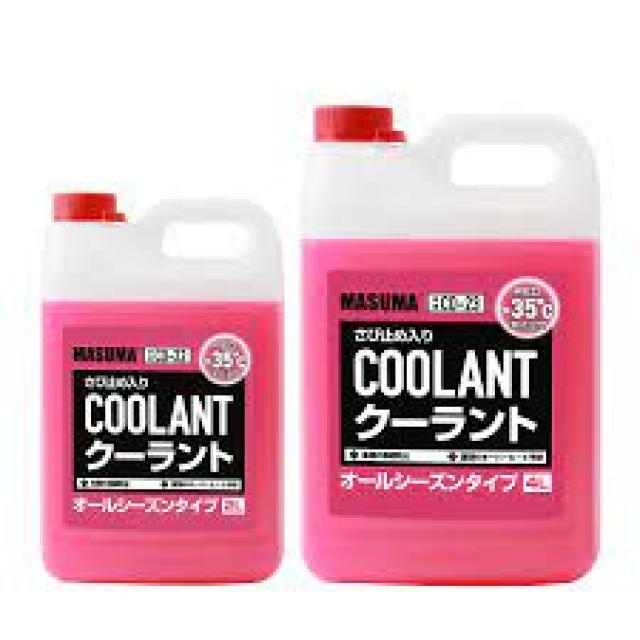coolant: (302, 98, 604, 586), (41, 186, 286, 585)
